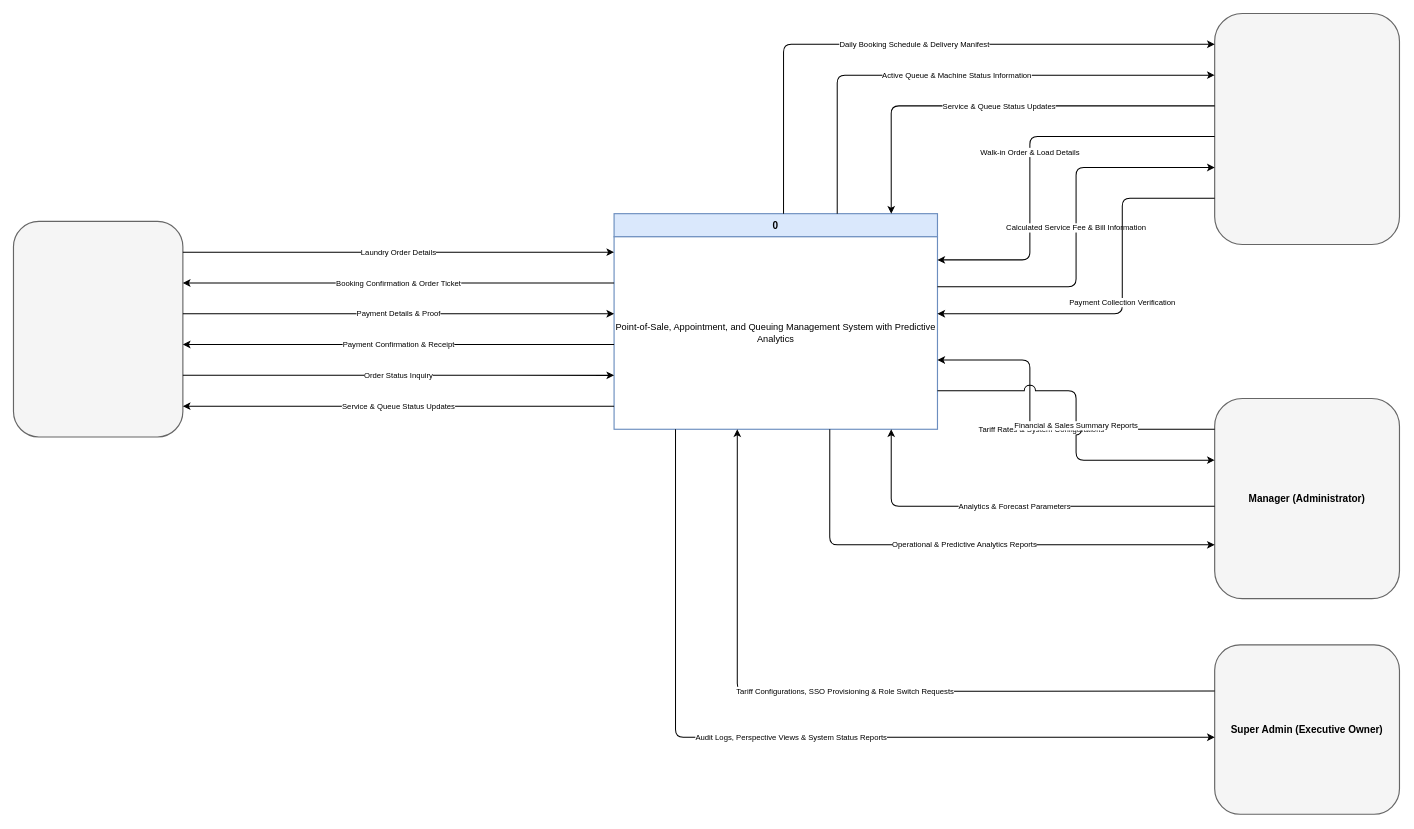
Some shapes in this 1414 by 829 pixel diagram are drawn without their labels. The centre of each missing label's shape, as x and y in pixels:
Customer (Guest / Landing Page): the point at 98,328
Staff (Cashier / Operator): the point at 1307,129
